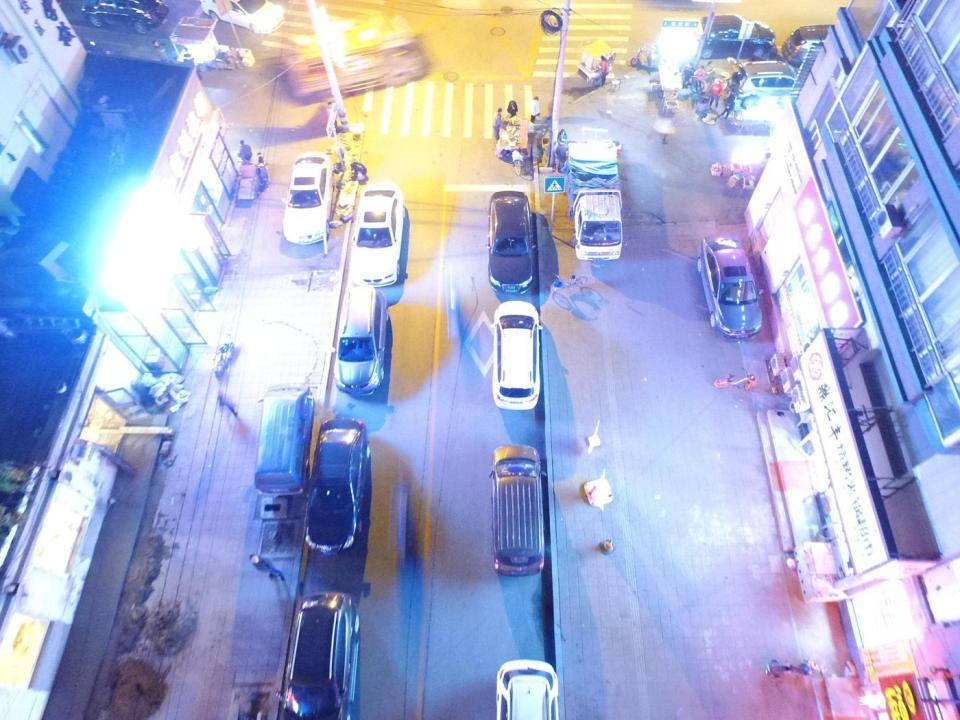car: (278, 589, 360, 720), (304, 418, 370, 556), (696, 231, 763, 340), (349, 180, 406, 288), (491, 299, 541, 411), (282, 150, 336, 246), (486, 190, 534, 295), (730, 59, 811, 109), (495, 659, 560, 720), (781, 23, 862, 71), (697, 13, 776, 59), (79, 0, 170, 36), (200, 0, 285, 36)
truck: (569, 144, 623, 262)
van: (253, 382, 315, 497), (491, 444, 544, 576), (333, 286, 389, 397)
